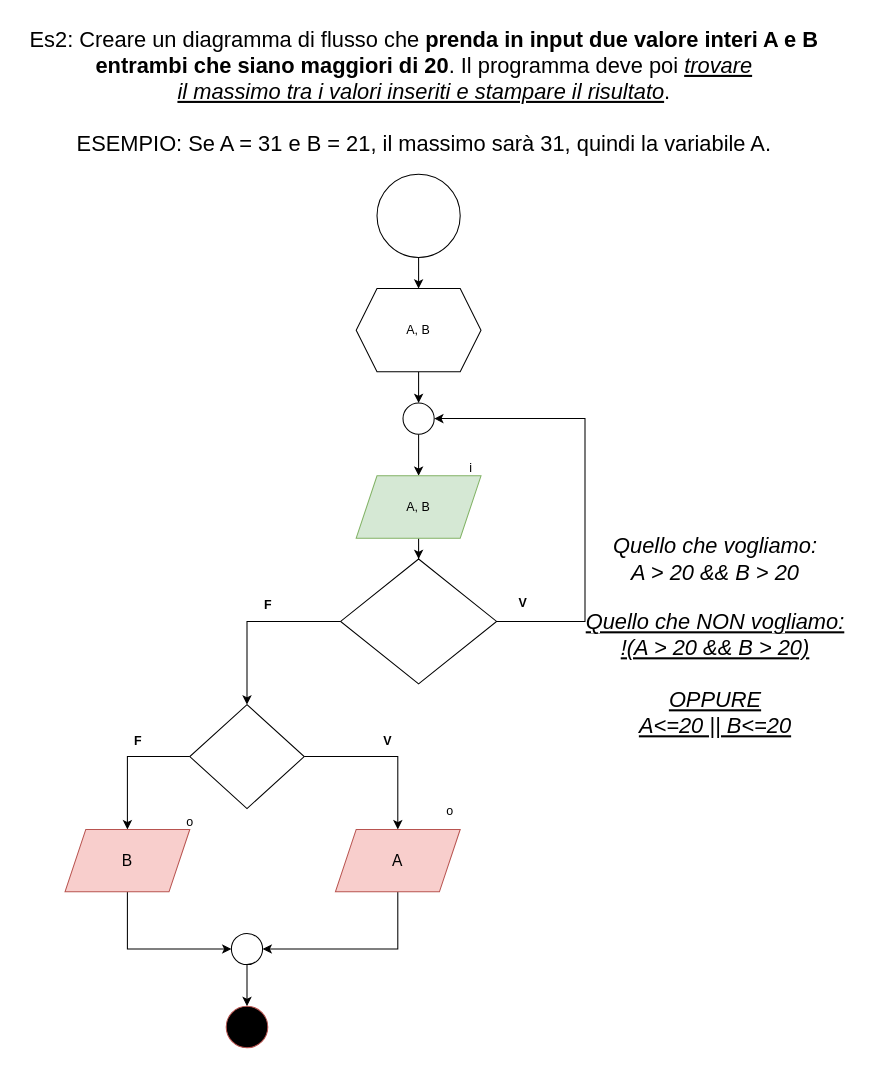
The diagram is 873 pixels wide and 1066 high, and some of its shapes have lost their labels. The centre of each missing label's shape, as x and y in pixels:
"!(A > 20 && B > 20)" belongs at [418,621].
"A > B" belongs at [246,756].
